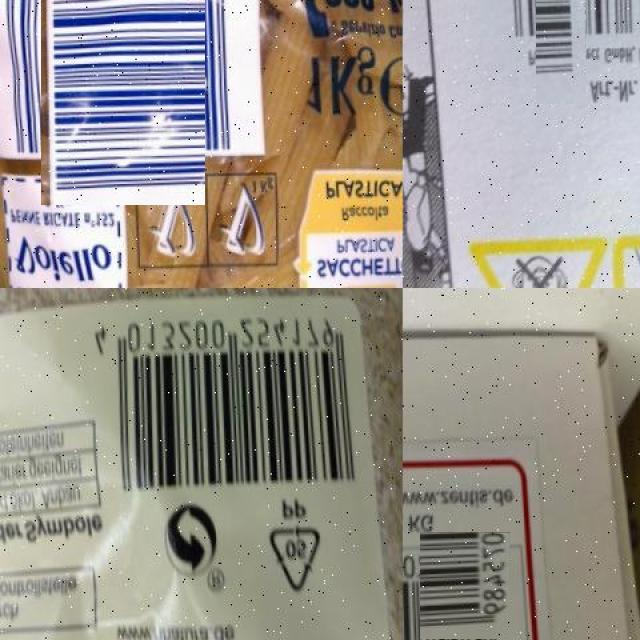Barcode: (90, 307, 363, 504), (20, 0, 225, 185), (410, 540, 518, 640), (509, 0, 613, 77)
